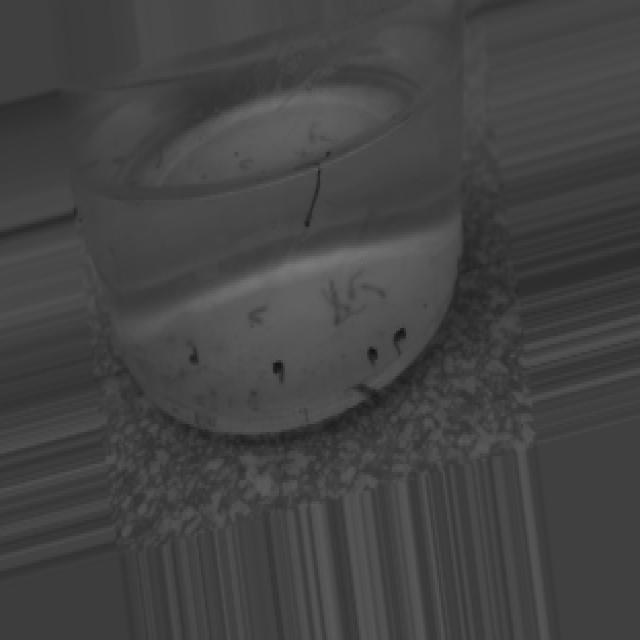larvas: (295, 147, 334, 173), (319, 291, 350, 316), (344, 266, 364, 300), (341, 303, 367, 326), (331, 281, 341, 325), (346, 384, 376, 398), (361, 282, 385, 299), (184, 336, 199, 363), (393, 329, 406, 355), (247, 386, 259, 414), (272, 361, 286, 383), (251, 306, 266, 324), (367, 347, 379, 369), (156, 147, 166, 170), (240, 158, 256, 170), (299, 406, 309, 421), (310, 118, 316, 142), (321, 134, 335, 141)
